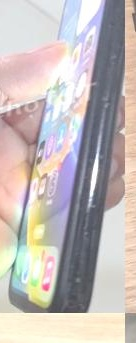scratch: (55, 236, 112, 302), (65, 188, 113, 240), (91, 85, 125, 122), (97, 40, 125, 83)
